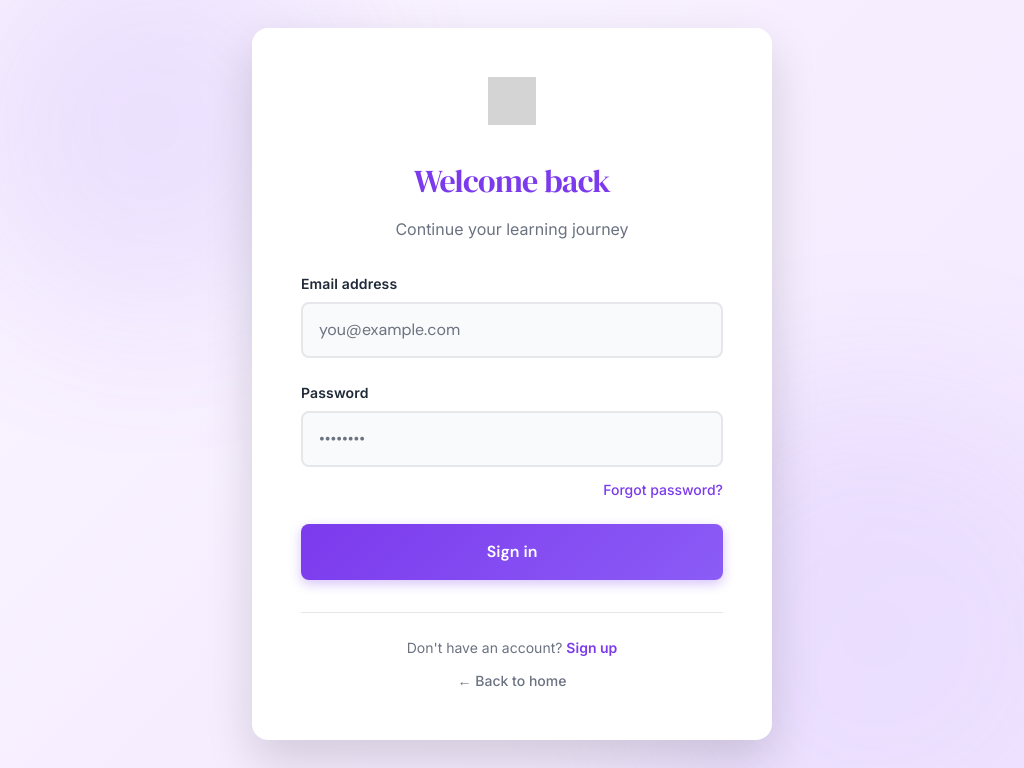
shows server error message on failed login
This screenshot has width=1024, height=768.
Type "john@example.com" into the field labelled "Email address". click: x=512, y=330
box: [301,302,723,358]
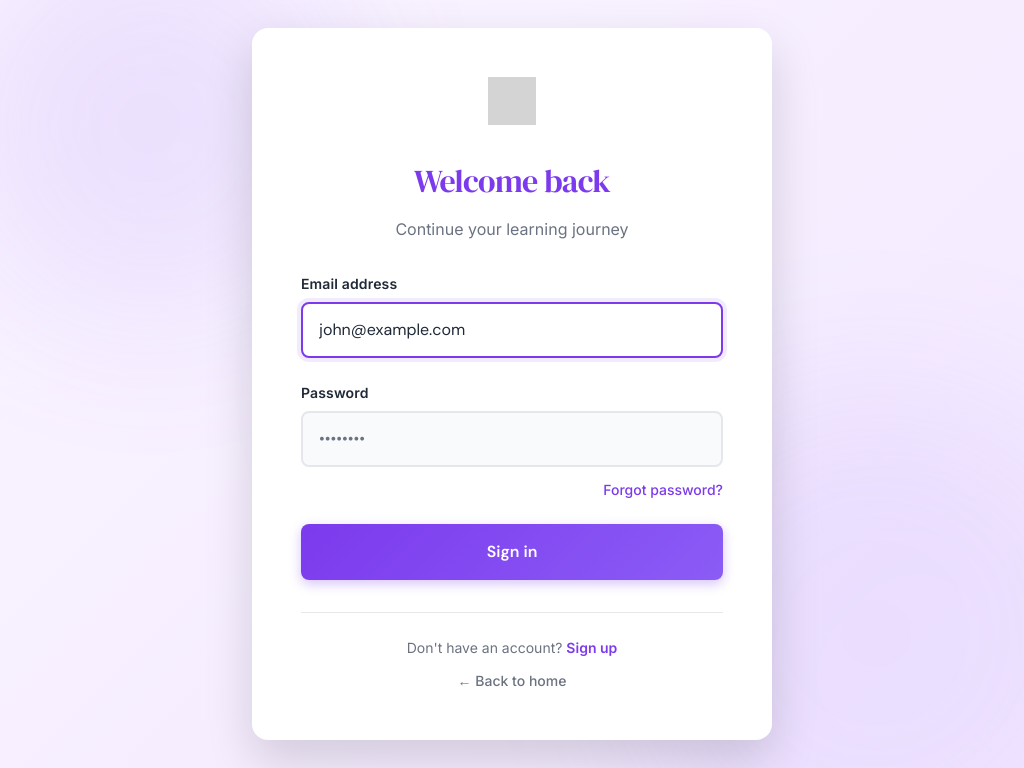
Type "wrongpass" into the password field labelled "Password". click: x=512, y=439
box: [301,411,723,467]
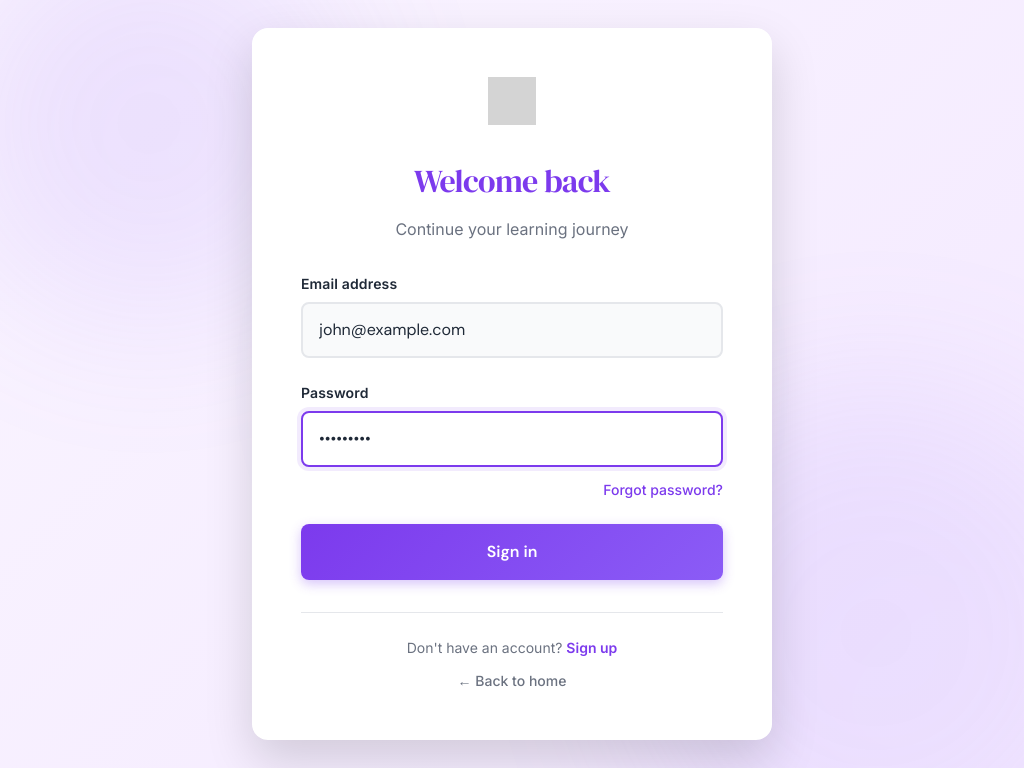
Click the button "Sign in". click: x=512, y=552
box: [301,524,723,580]
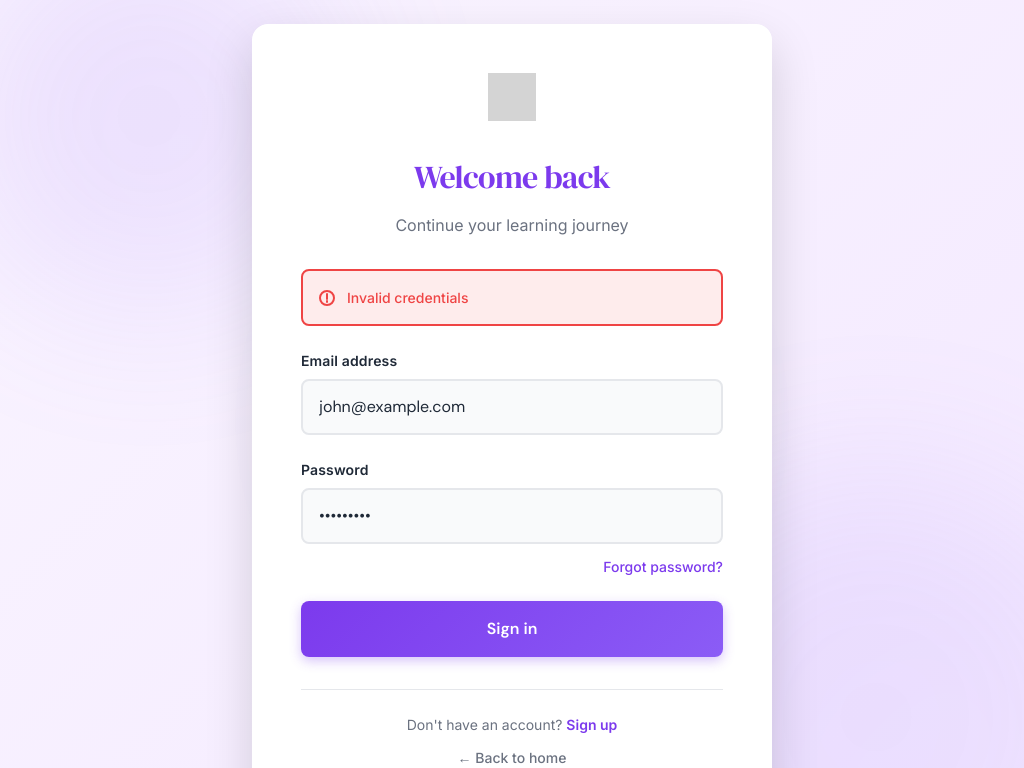
Check: the text "Invalid credentials" is shown, box [301,269,723,326]
